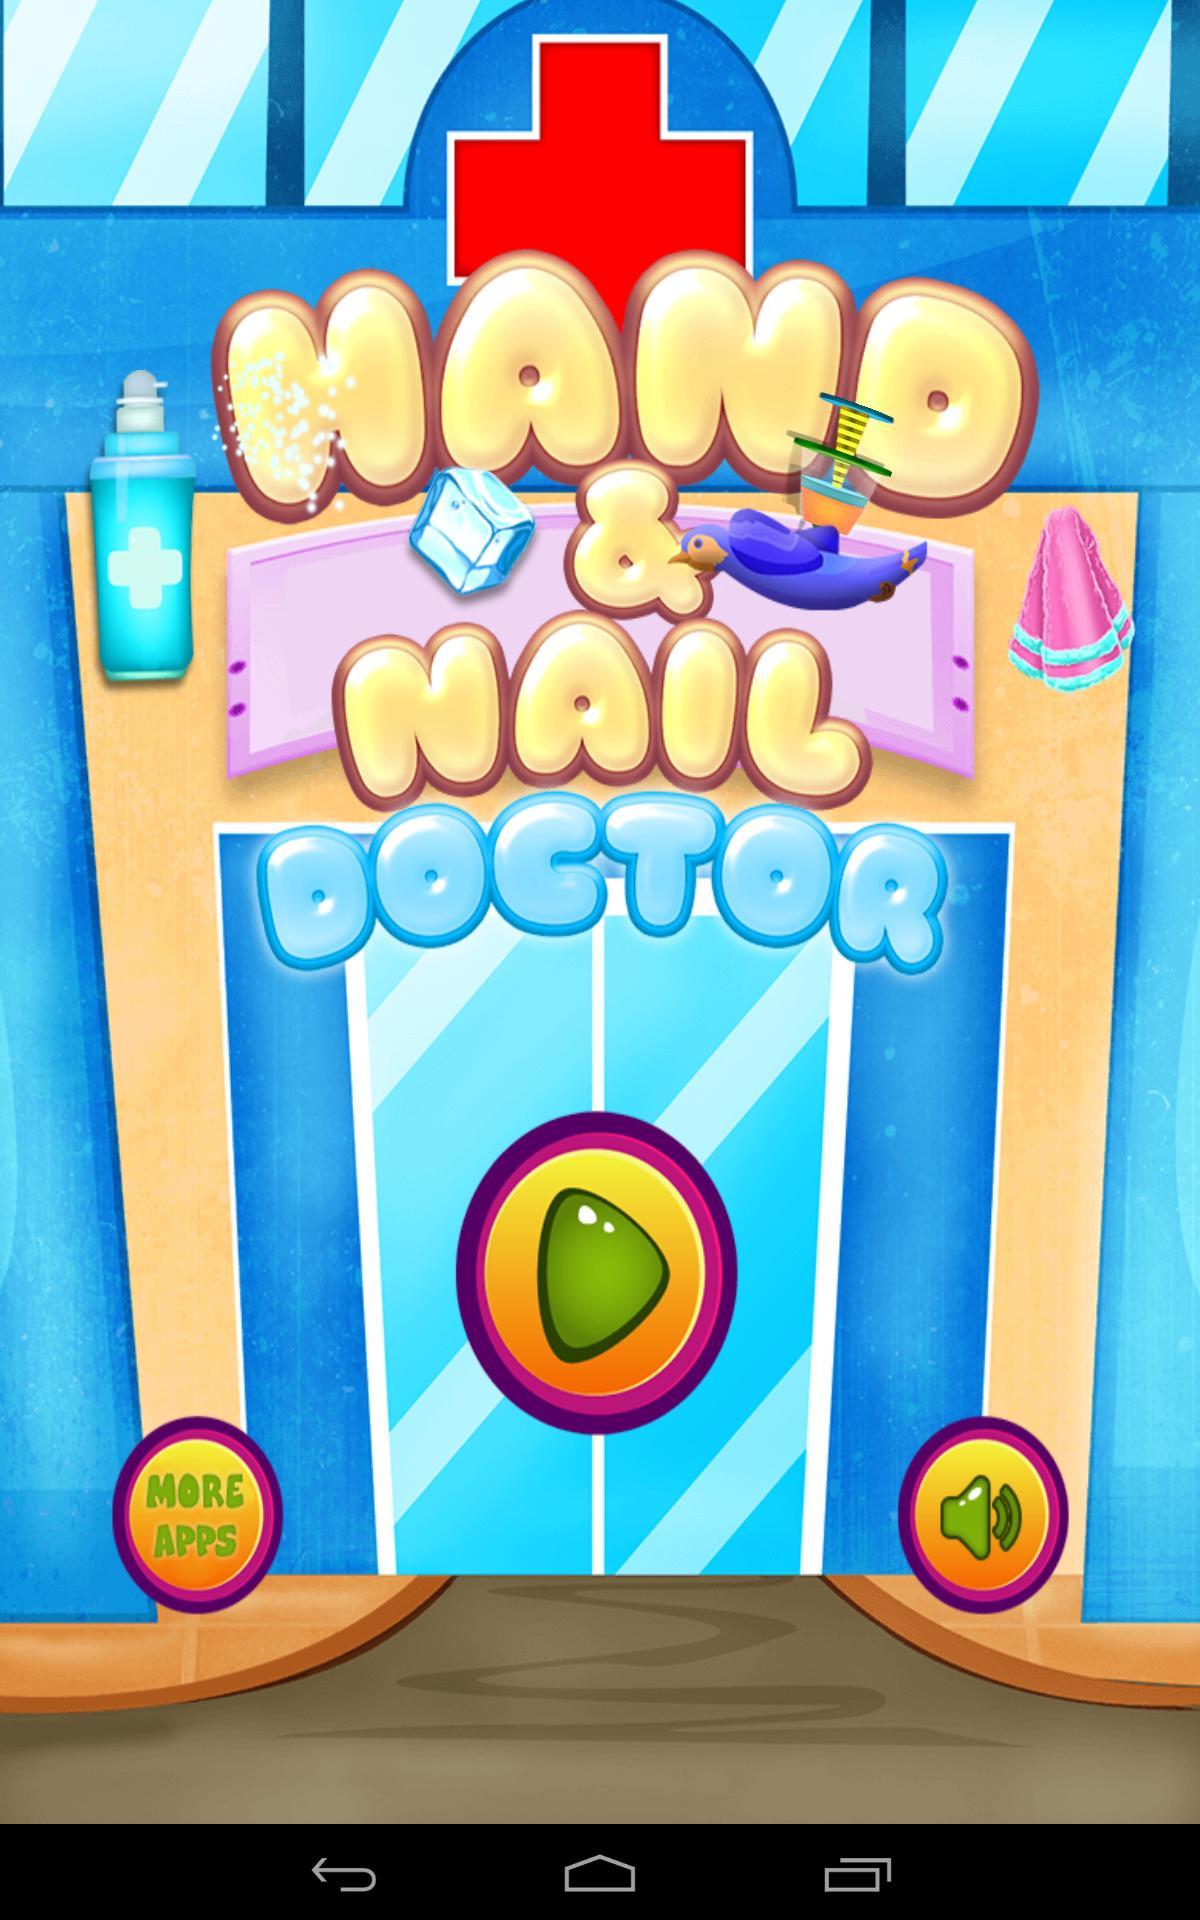android.view.View: (0, 0, 1200, 1825)
android.widget.EditText: (0, 0, 44, 95)
android.widget.FrameLayout: (0, 0, 1200, 1825)
android.widget.LinearLayout: (0, 0, 1200, 1825)
android.widget.RelativeLayout: (0, 0, 1200, 1825)
